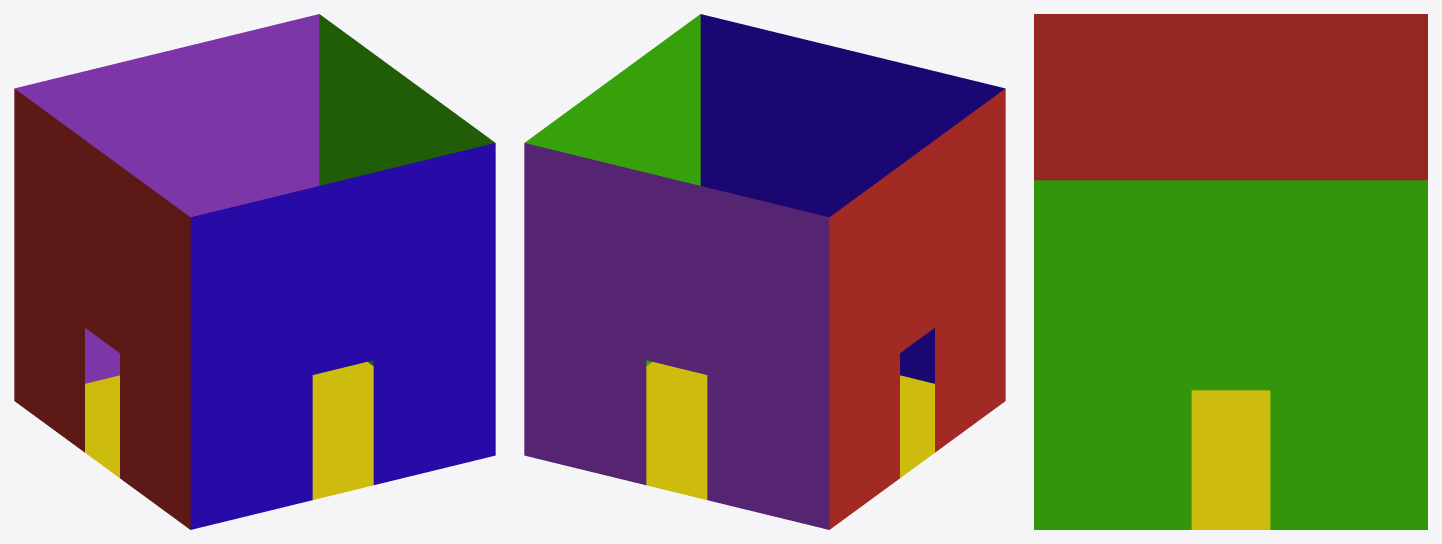
Rendered from 4 puertas cuadrado.fbx.
3 renders of one model, left to right at view 1: azimuth 30°, elevation 25°; view 2: azimuth 150°, elevation 25°; view 3: azimuth 270°, elevation 25°, orthographic. The views are drawn at different scales.
Parts seen in each view (by area): view 1: Cube; view 2: Cube; view 3: Cube.
Part boxes in pixels (bbox=[...]): Cube: bbox=[14, 14, 495, 529]; Cube: bbox=[524, 14, 1005, 529]; Cube: bbox=[1034, 14, 1427, 529].
Size of the model in its own units: 341 by 334 by 341.
